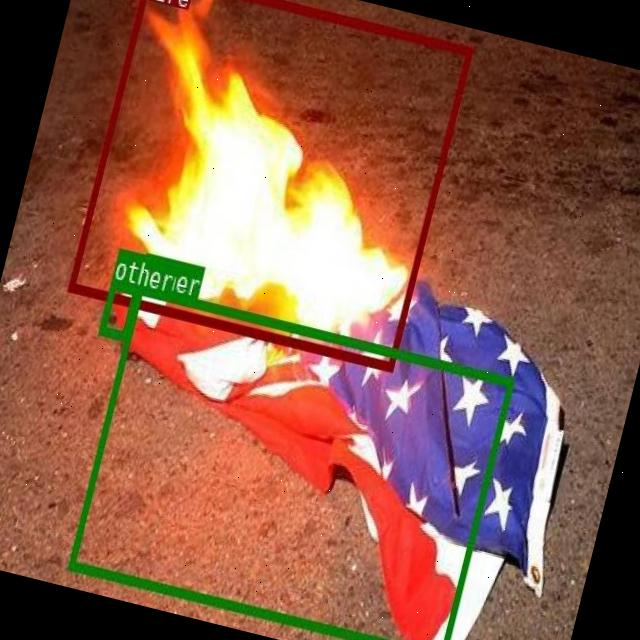fire: (67, 0, 472, 370)
